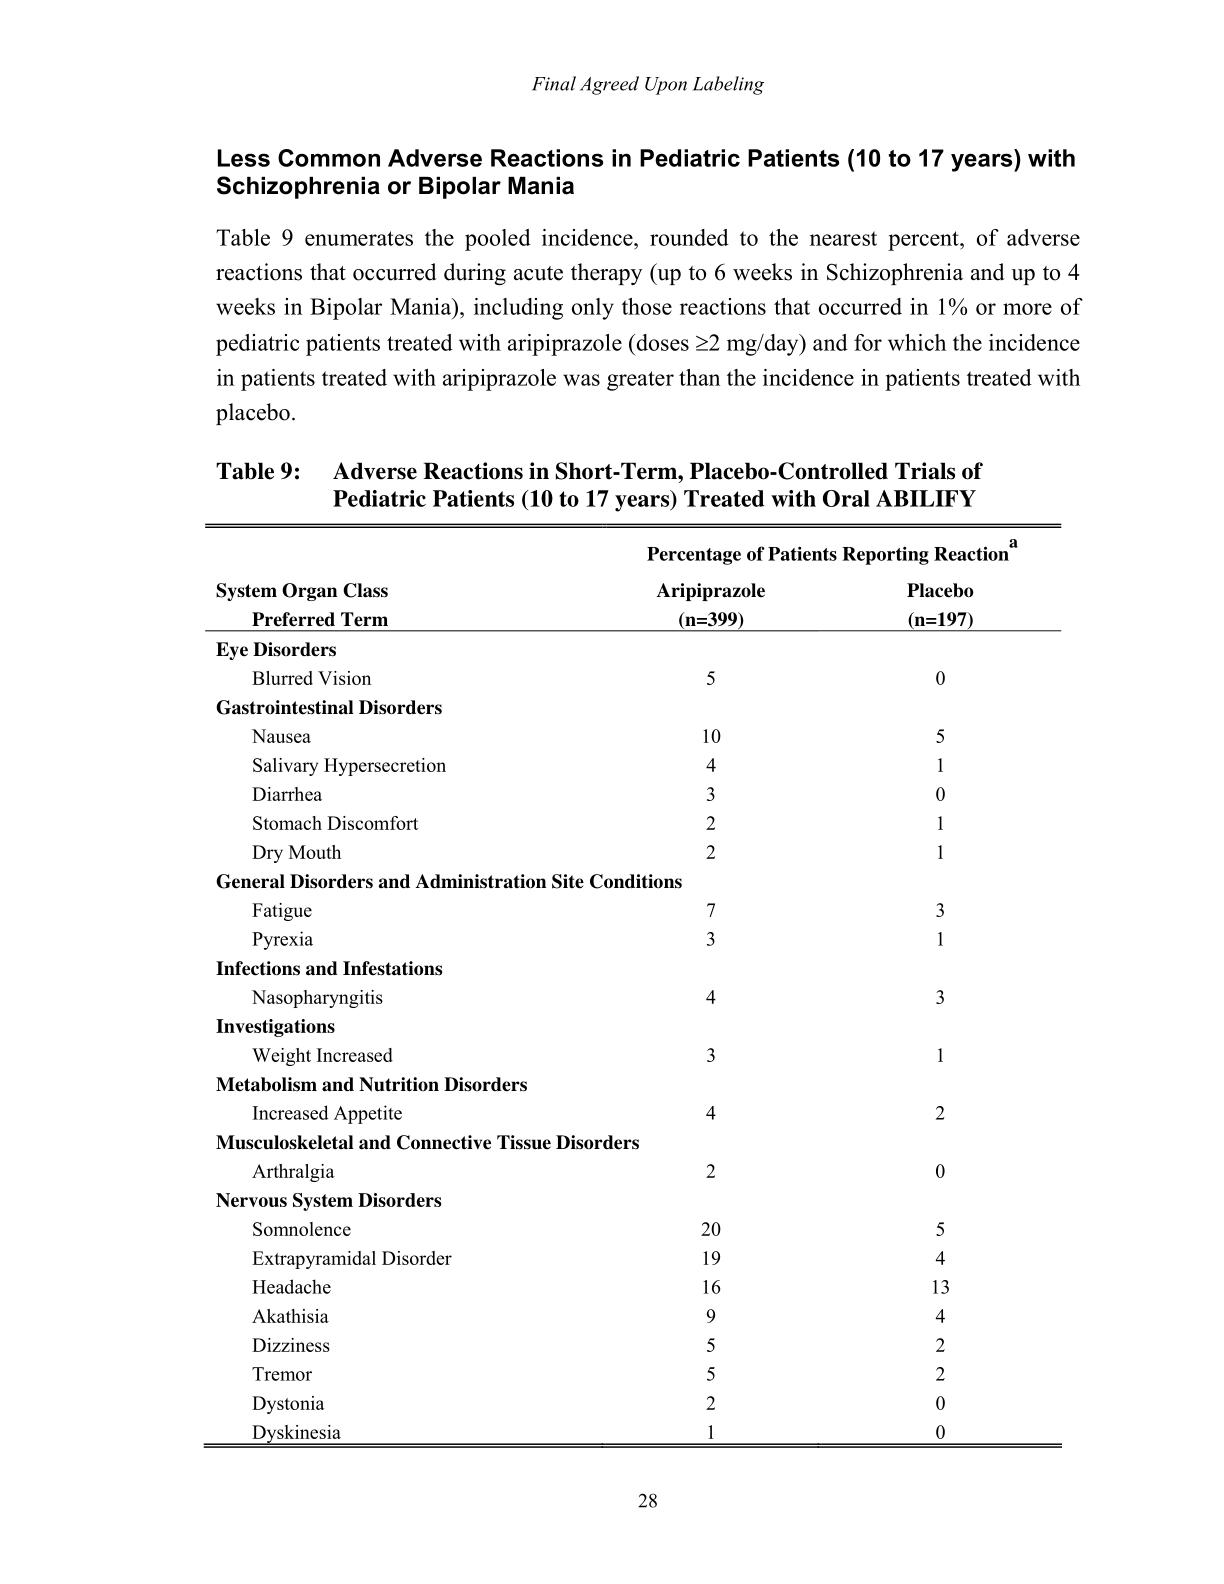partial_lined_merged_cells: (204, 521, 1065, 1449)
